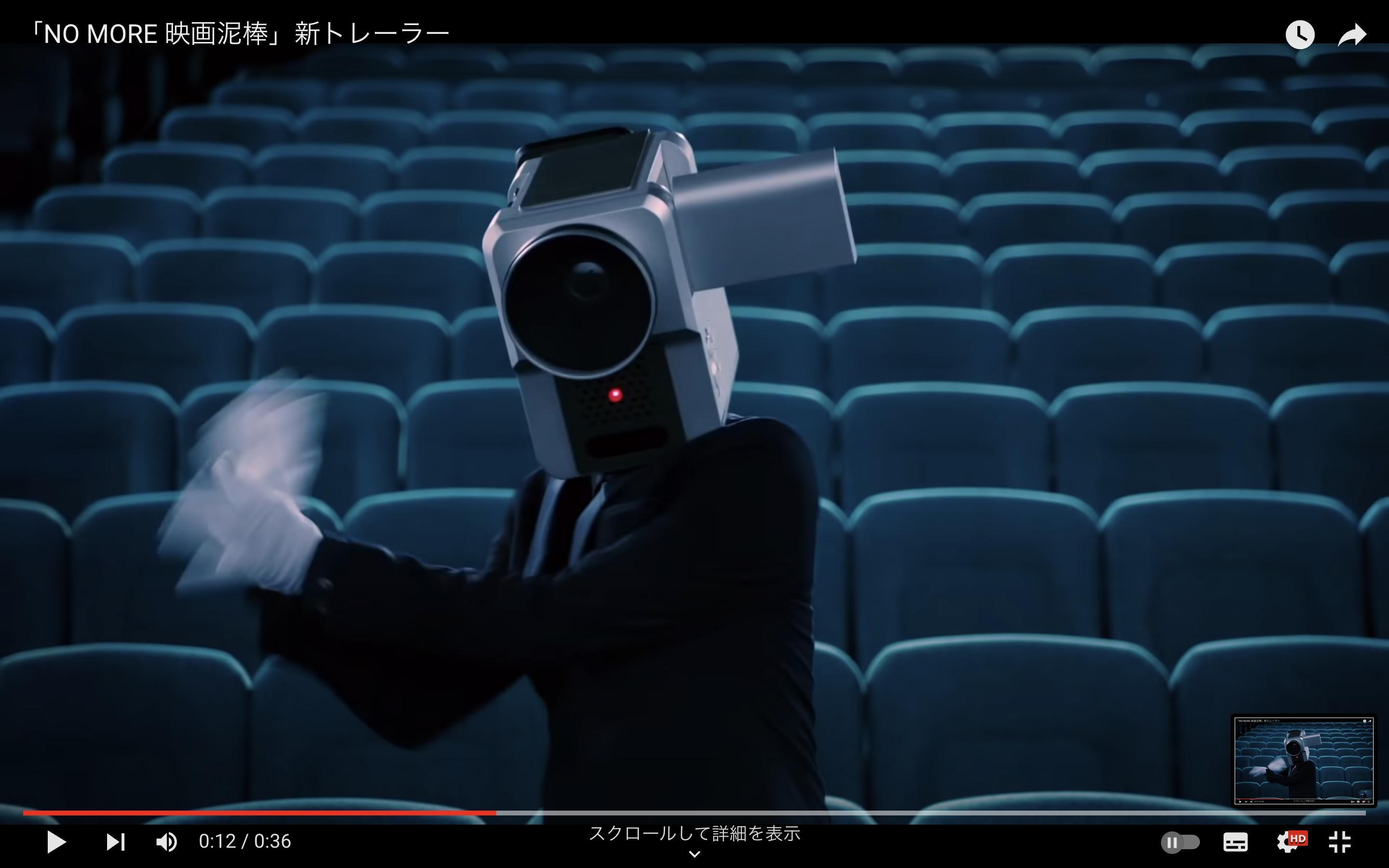no more kid: (458, 112, 883, 504)
